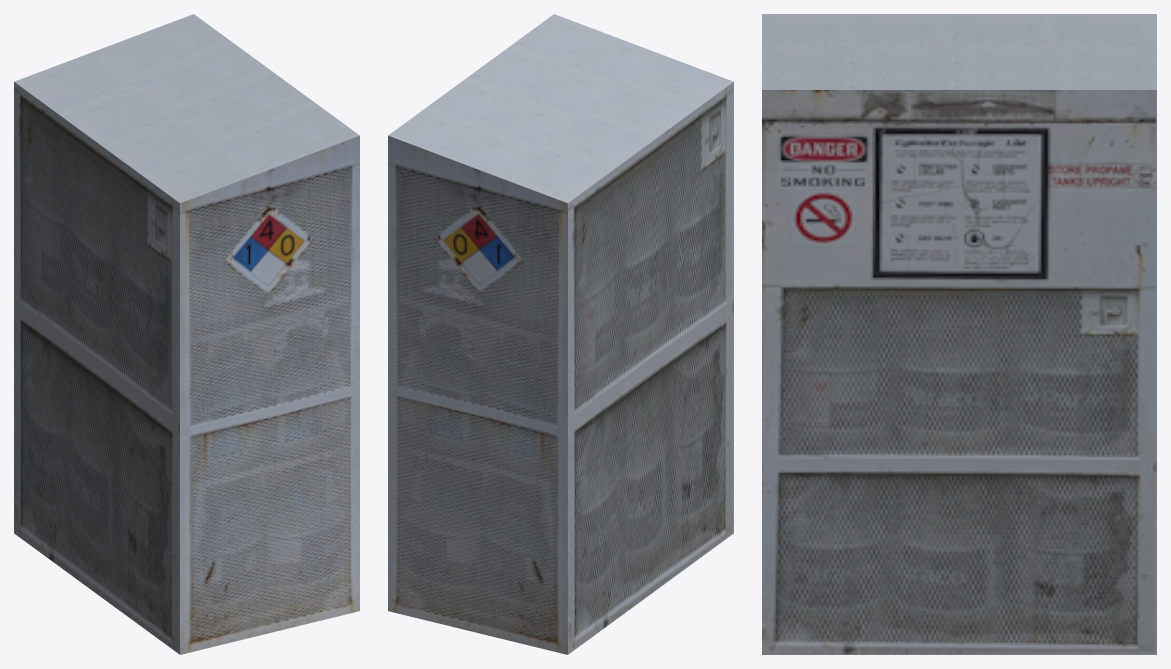
File: Classic64_PropaneStorage_Model.fbx
3 renders of one model, left to right at view 1: azimuth 30°, elevation 25°; view 2: azimuth 150°, elevation 25°; view 3: azimuth 270°, elevation 25°, orthographic. The views are drawn at different scales.
Parts seen in each view (by area): view 1: Classic64_PropaneStorage_Part000; view 2: Classic64_PropaneStorage_Part000; view 3: Classic64_PropaneStorage_Part000.
Boxes of the visible parts, x1=… form: Classic64_PropaneStorage_Part000: x1=14, y1=14, x2=359, y2=654; Classic64_PropaneStorage_Part000: x1=388, y1=14, x2=733, y2=654; Classic64_PropaneStorage_Part000: x1=762, y1=14, x2=1156, y2=654.
Bounding box in the file's own units: 0.762 × 1.93 × 1.22.
Materials: 1 (1 with a texture image).
